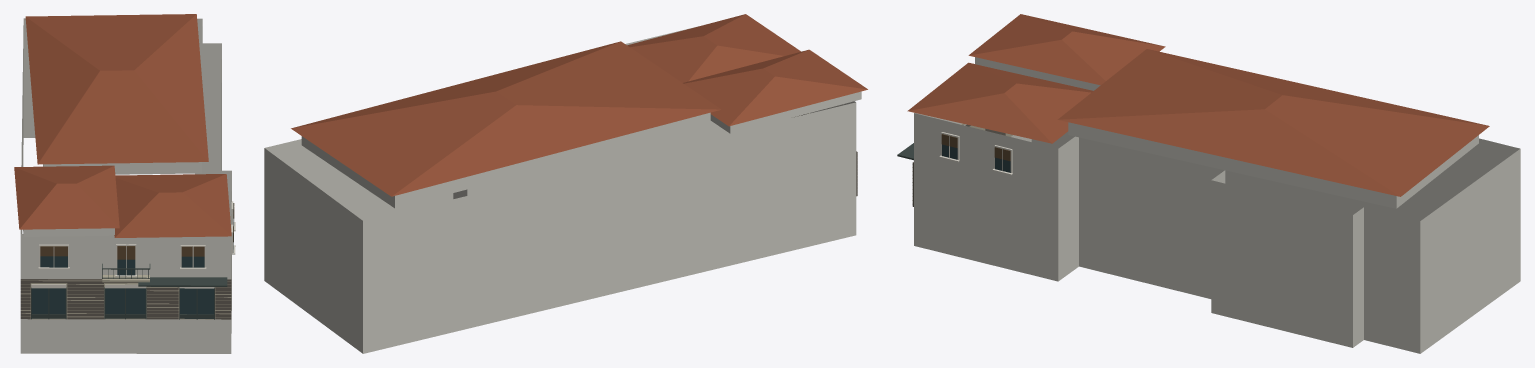
File: casa-bianca.glb
The picture shows the model from 3 angles, left to right: view 1: azimuth 30°, elevation 25°; view 2: azimuth 150°, elevation 25°; view 3: azimuth 270°, elevation 25°; orthographic projection. The views are drawn at different scales.
Bounding box in the file's own units: 32.57 × 13.1 × 43.58.
